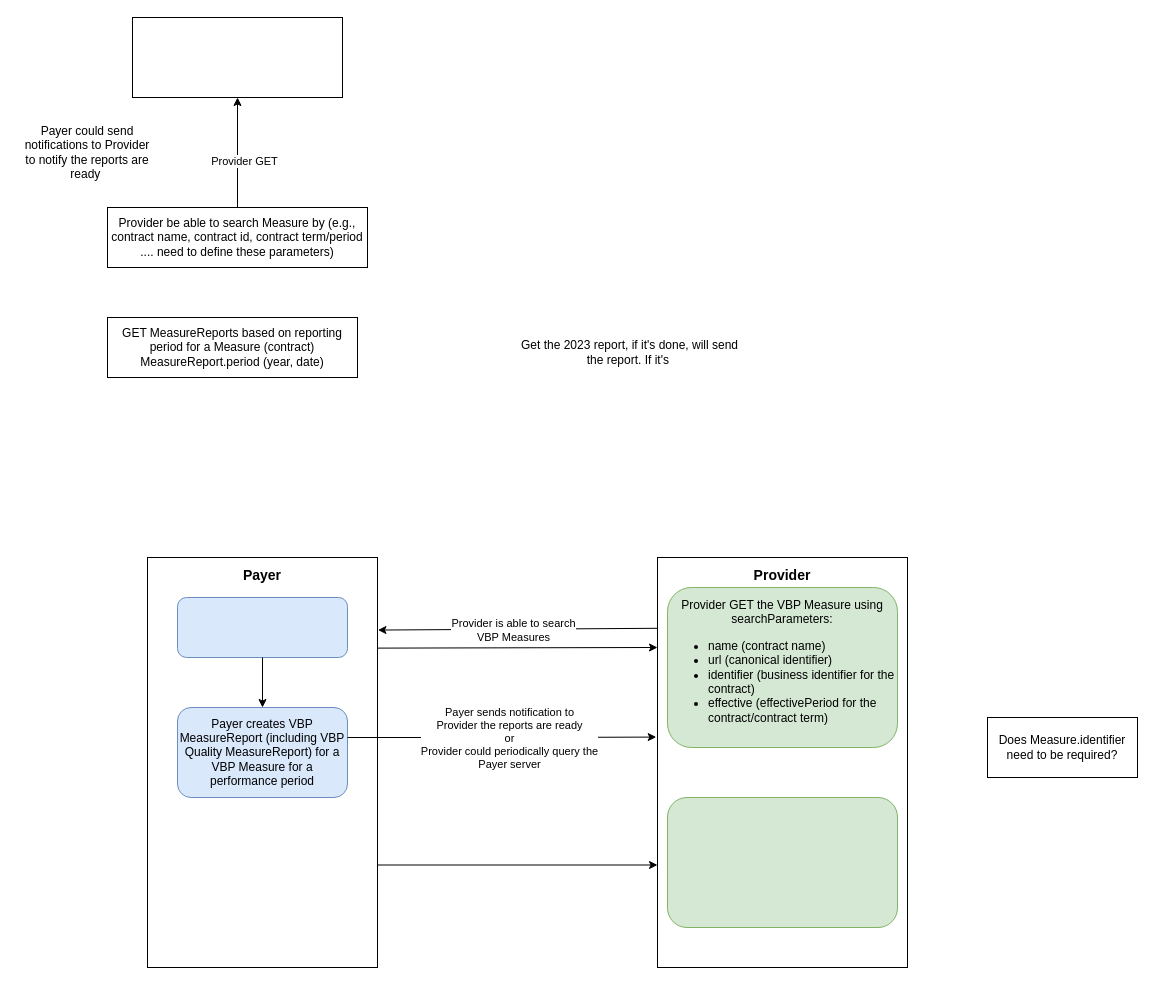
The diagram is 1155 pixels wide and 985 high, and some of its shapes have lost their labels. The box of each missing label's shape, as (x1, y1, x2, y2) in pixels:
Payer creates VBP Measure (contract already in place) Measures already in place: (132, 16, 342, 98)
Payer creates VBP Measure (Measure.url assigned): (176, 596, 348, 658)
Provider GET the VBP MeasureReport using searchParameters: measure period: (666, 796, 898, 928)
